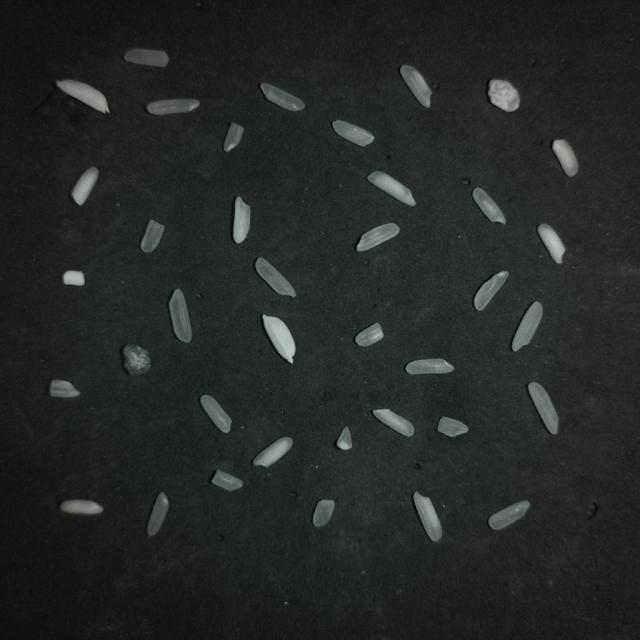broken: (141, 220, 164, 253), (212, 470, 243, 491), (355, 323, 383, 346), (437, 417, 468, 437), (313, 500, 334, 527), (224, 123, 244, 151), (50, 379, 80, 397), (336, 427, 352, 450)
chalky: (368, 172, 416, 206), (414, 492, 442, 542), (254, 437, 292, 467), (373, 409, 414, 436), (537, 224, 565, 263), (72, 167, 99, 205), (552, 140, 578, 176), (233, 197, 250, 243), (59, 499, 103, 514), (63, 270, 85, 286)
foreign: (57, 80, 109, 111), (262, 315, 295, 363), (488, 79, 519, 111), (121, 344, 151, 375)
whole: (255, 257, 296, 297), (528, 382, 558, 434), (512, 302, 543, 351), (400, 65, 431, 108), (474, 271, 508, 310), (472, 188, 506, 224), (170, 289, 192, 343), (260, 84, 304, 111), (200, 395, 231, 433), (357, 224, 399, 251), (489, 501, 529, 529), (332, 120, 374, 146), (147, 492, 168, 536), (147, 99, 199, 115), (124, 49, 168, 67), (405, 359, 453, 374)
